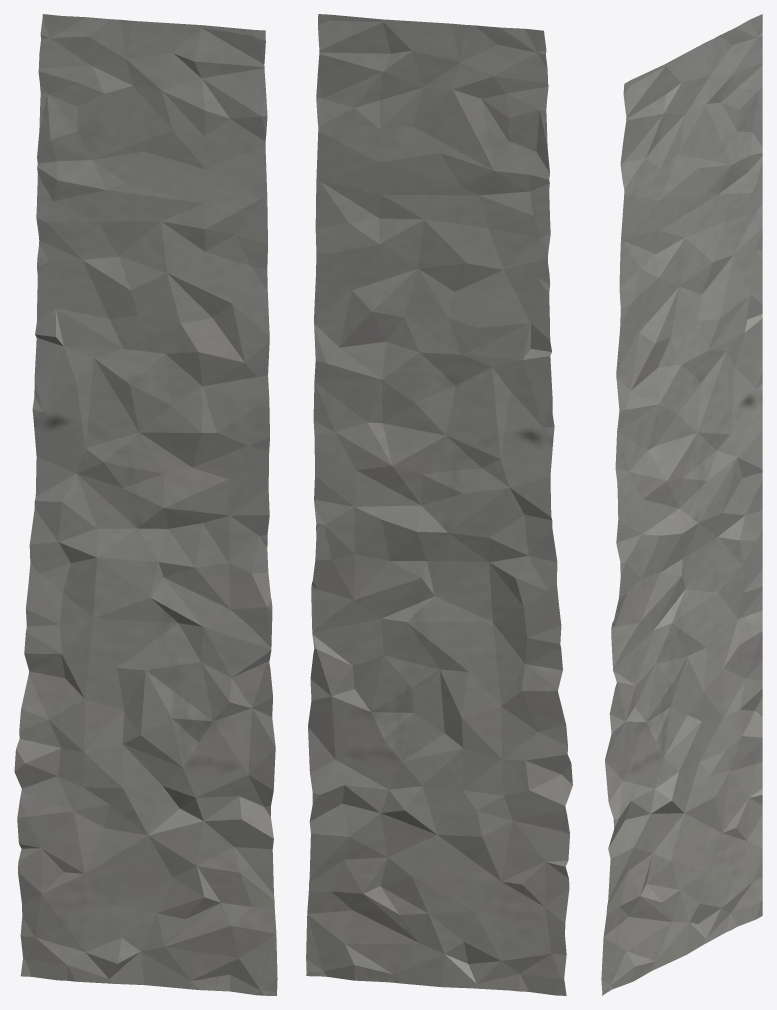
3 renders of one model, left to right at view 1: azimuth 30°, elevation 25°; view 2: azimuth 210°, elevation 25°; view 3: azimuth 270°, elevation 25°, orthographic. The views are drawn at different scales.
Size of the model in its own units: 0.1635 by 0.8374 by 0.1341.
Materials: 1 (1 with a texture image).
